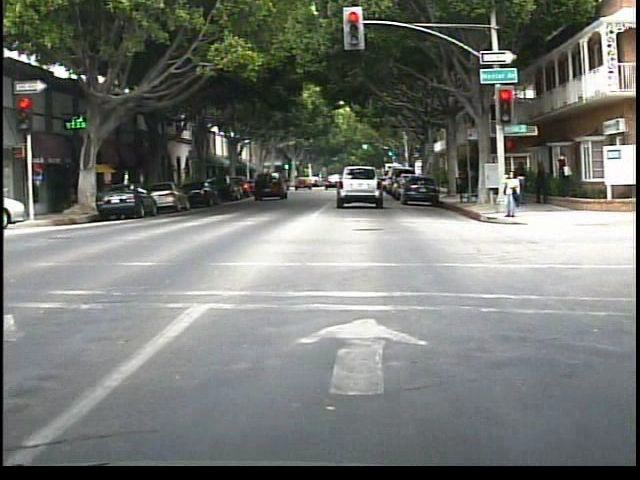person: (497, 167, 522, 220), (553, 149, 576, 198), (530, 157, 550, 209), (515, 156, 529, 204)
